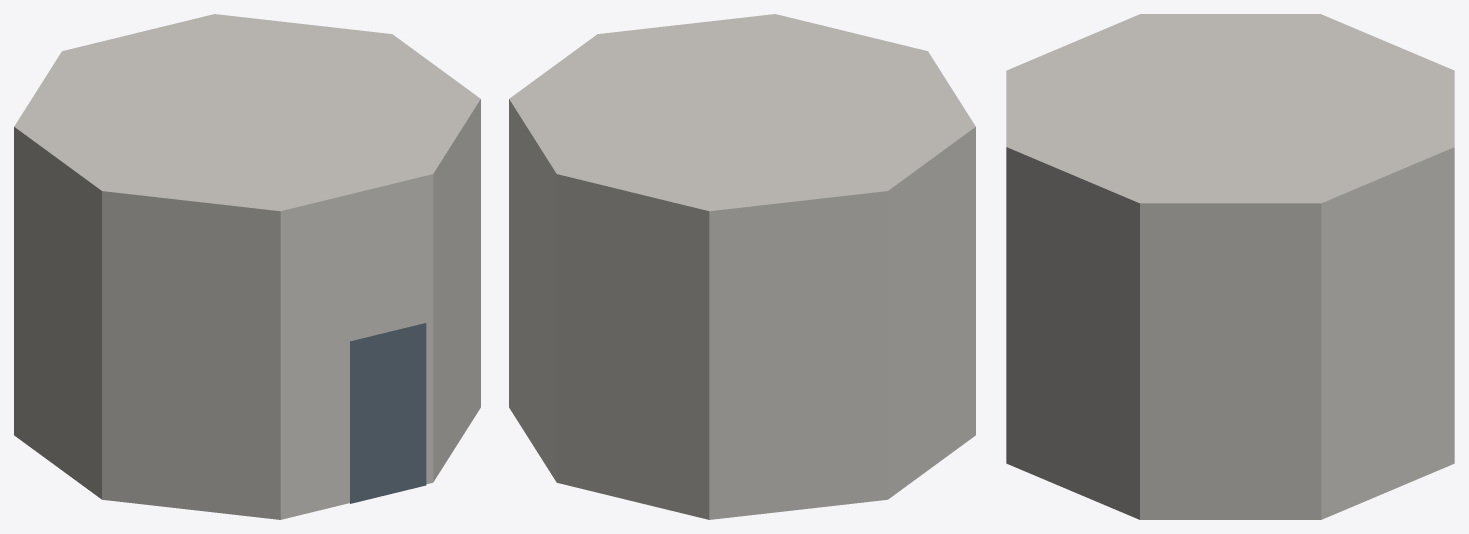
The model's file is loin-etape-1.glb.
The picture shows the model from 3 angles, left to right: view 1: azimuth 30°, elevation 25°; view 2: azimuth 150°, elevation 25°; view 3: azimuth 270°, elevation 25°; orthographic projection. The views are drawn at different scales.
Parts seen in each view (by area): view 1: loin; view 2: loin; view 3: loin.
Boxes of the visible parts, x1=… form: loin: x1=14, y1=14, x2=480, y2=519; loin: x1=509, y1=14, x2=975, y2=519; loin: x1=1006, y1=14, x2=1454, y2=519.
Bounding box in the file's own units: 0.7779 × 0.6062 × 0.7819.
